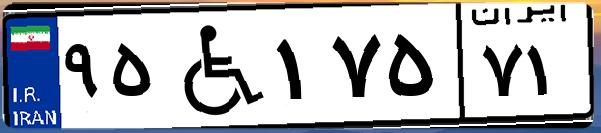1: (270, 28, 330, 110), (525, 38, 570, 115)
5: (385, 28, 445, 110), (110, 28, 158, 98)
7: (330, 28, 385, 110), (475, 38, 525, 113)
9: (57, 26, 110, 100)
ژ (معلولین و جانبازان): (158, 12, 270, 120)
